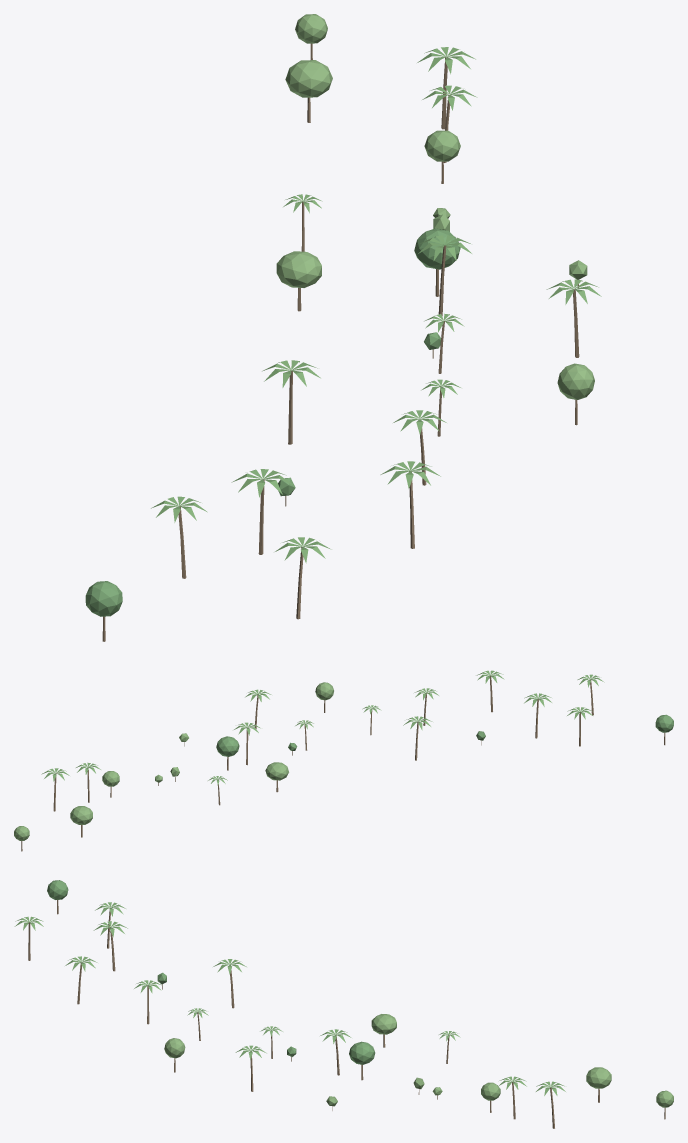
File: nature_-6_-3.glb
3 renders of one model, top to bottom at view 1: azimuth 30°, elevation 25°; view 2: azimuth 150°, elevation 25°; view 3: azimuth 270°, elevation 25°, orthographic. The views are drawn at different scales.
Visible parts, largest first — view 1: foliage_b, palm_leaf, trunk, foliage_a; view 2: palm_leaf, foliage_b, trunk, foliage_a; view 3: palm_leaf, foliage_b, trunk, foliage_a.
Boxes of the visible parts, x1,y1,x2,y2 form: foliage_b: (276, 14, 594, 399); palm_leaf: (151, 47, 601, 563); trunk: (102, 43, 579, 641); foliage_a: (85, 228, 460, 616); palm_leaf: (41, 670, 604, 784); foliage_b: (14, 682, 333, 840); trunk: (21, 676, 665, 851); foliage_a: (216, 714, 673, 756); palm_leaf: (14, 902, 565, 1095); foliage_b: (164, 1014, 673, 1107); trunk: (28, 900, 665, 1128); foliage_a: (47, 880, 375, 1064).
Size of what is drawn, in the model's own units: 94.18 by 8.82 by 116.
